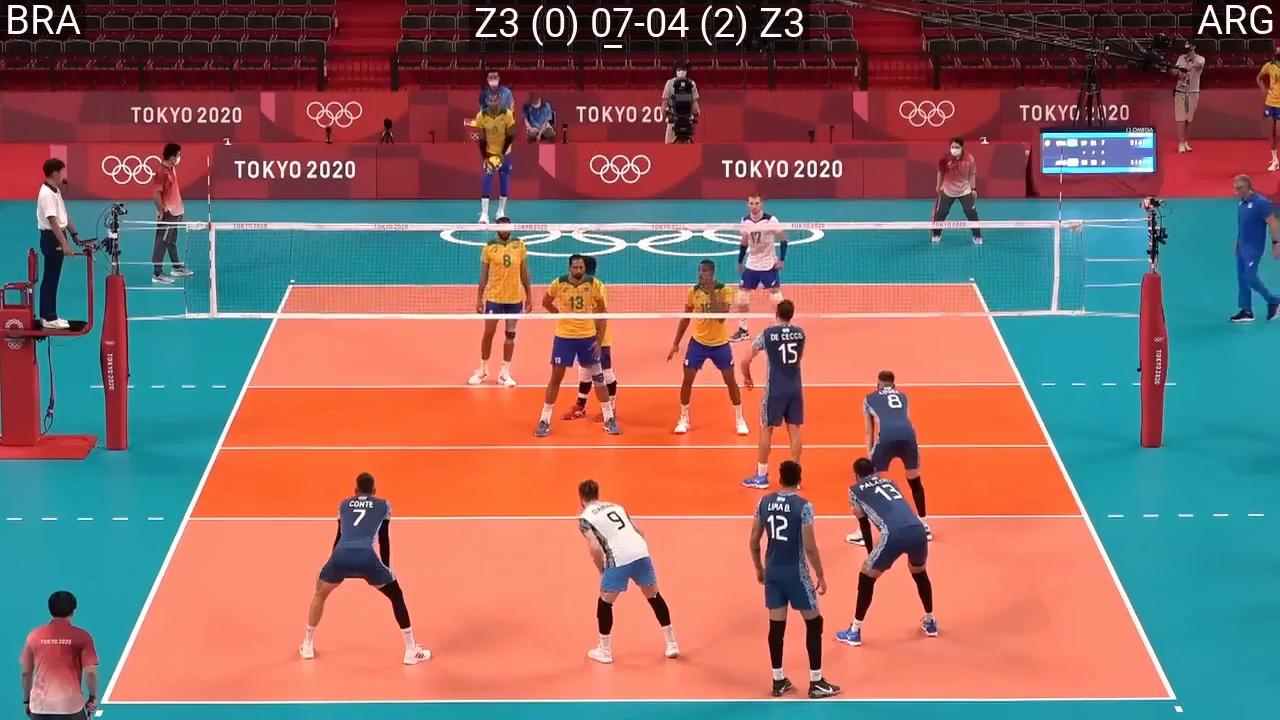ball: (486, 156, 503, 172)
